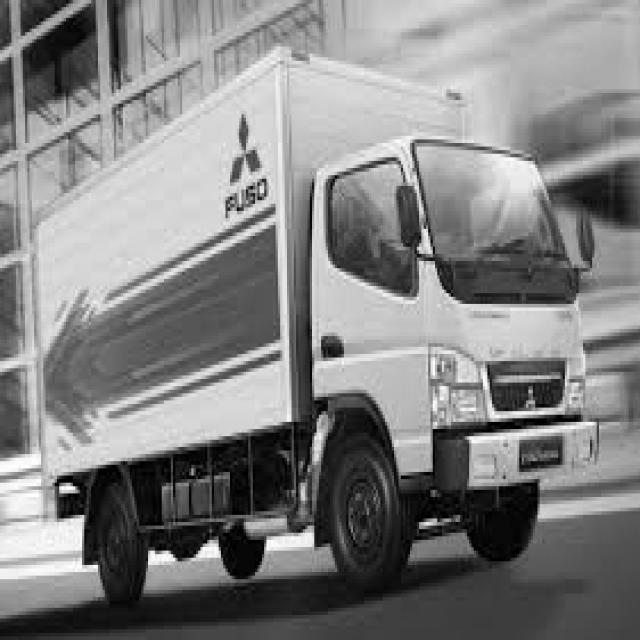truck: (287, 105, 613, 563)
